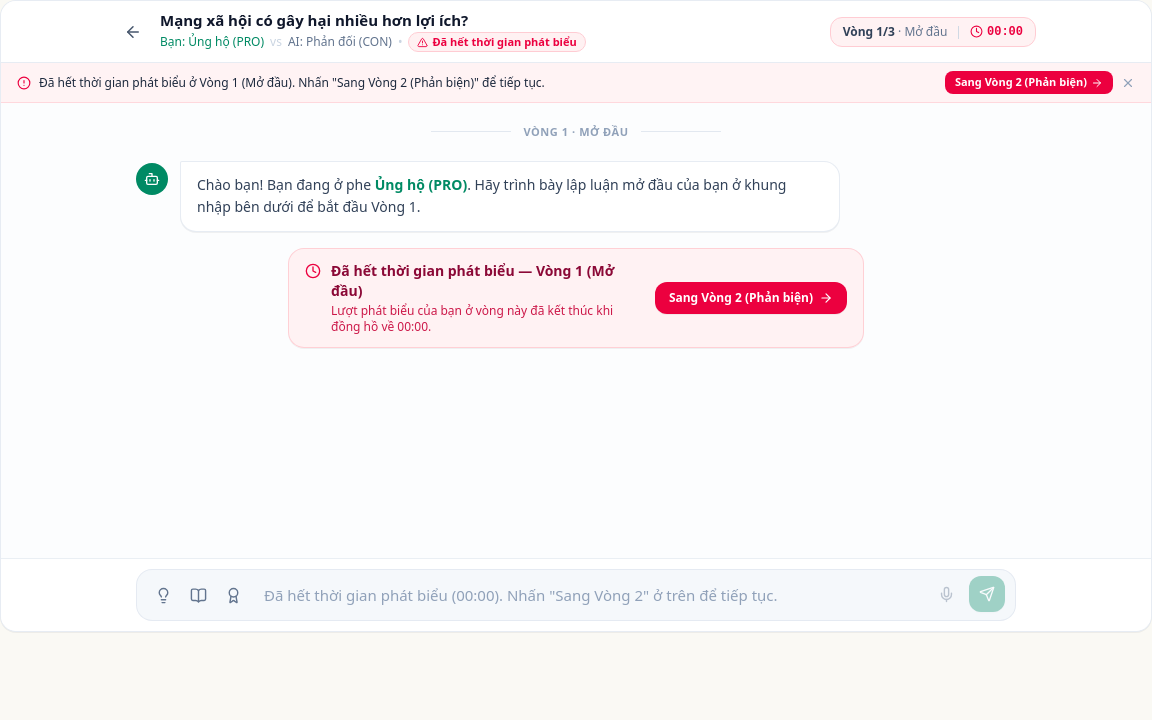
Scenario: DebateRoom Timer Expiration & State Machine › 3. transitions cleanly between Opening (Round 1), Rebuttal (Round 2), and Conclusion (Round 3)
The width and height of the screenshot is (1152, 720).
Check: the message with test id "round-1-timeout-notice" is shown, box [288,248,864,348]
Advance from Opening (Round 1) to Rebuttal (Round 2)
Click the button with test id "advance-round-after-timeout-btn" at (751, 298), box [655,282,847,314]
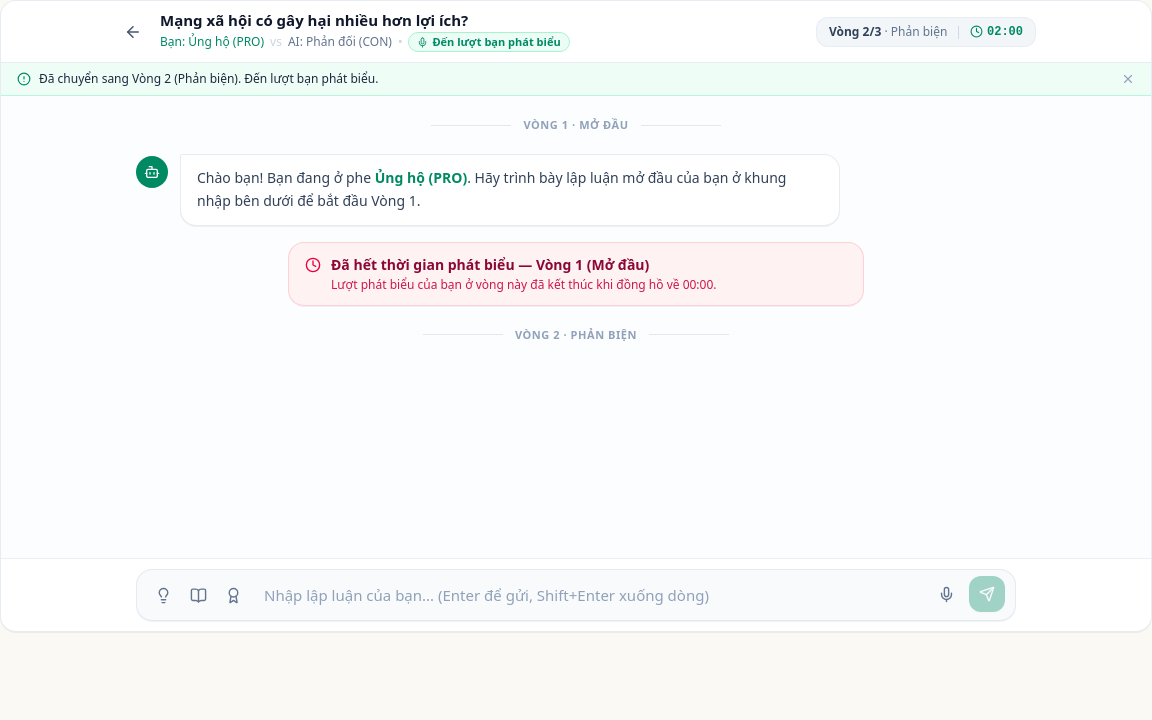
Check: the text "Vòng 2/3 · Phản biện" is shown, box [829,24,947,40]
Check: the element with test id "debate-countdown-timer" reads "02:00", box [987,25,1023,39]
Check: the element with test id "turn-status-indicator" reads "Đến lượt bạn phát biểu", box [432,34,561,49]
Replace the text in the text box labelled "lập luận của bạn" with "Phản biện của tôi ở Vòng 2 bác bỏ các giả định của đối phương." at (590, 596), box [258,578,922,614]
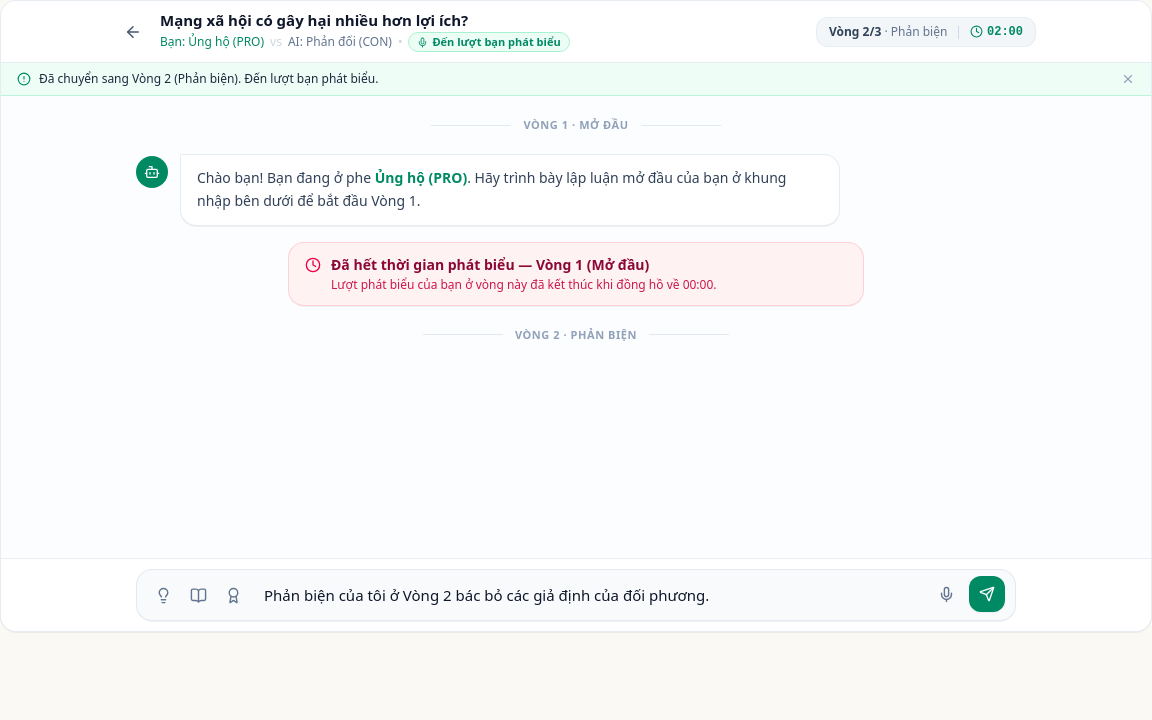
Click the button named "Gửi lập luận" at (987, 594), box [969,576,1005,612]
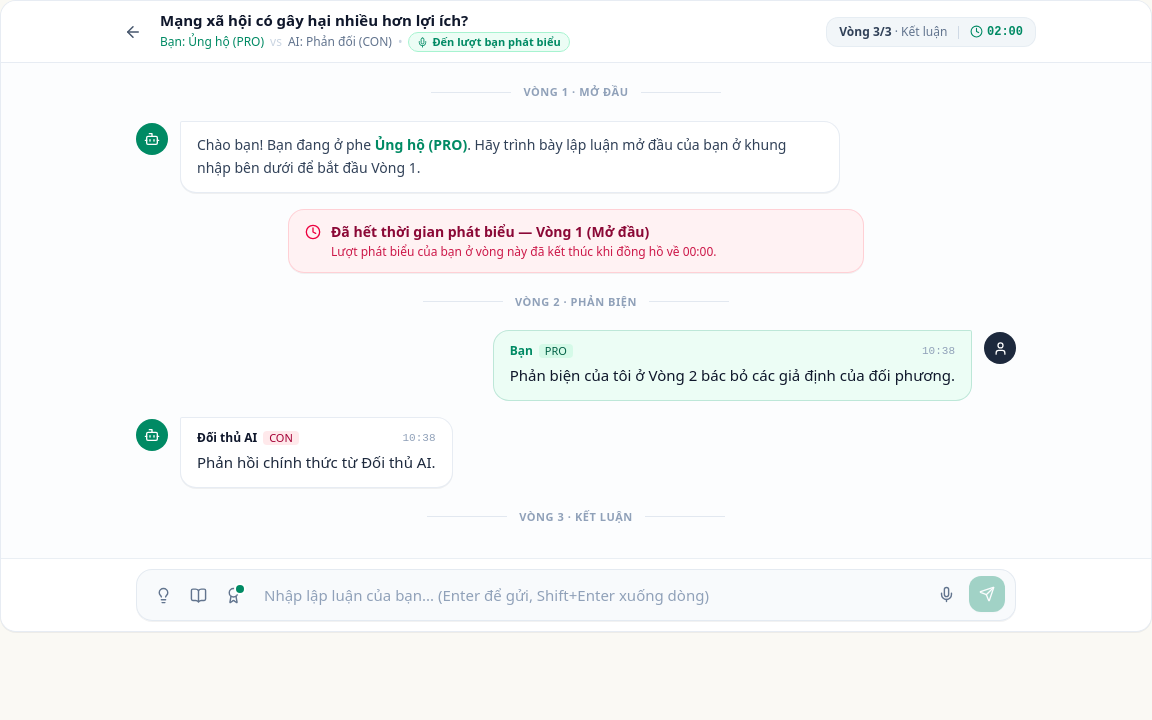
Check: the element with test id "debate-countdown-timer" reads "02:00", box [987,25,1023,39]
Check: the element with test id "turn-status-indicator" reads "Đến lượt bạn phát biểu", box [432,34,561,49]
Check: the text "Vòng 3/3 · Kết luận" is shown, box [839,24,947,40]
